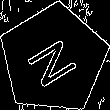N_NE: (22, 29, 84, 89)
